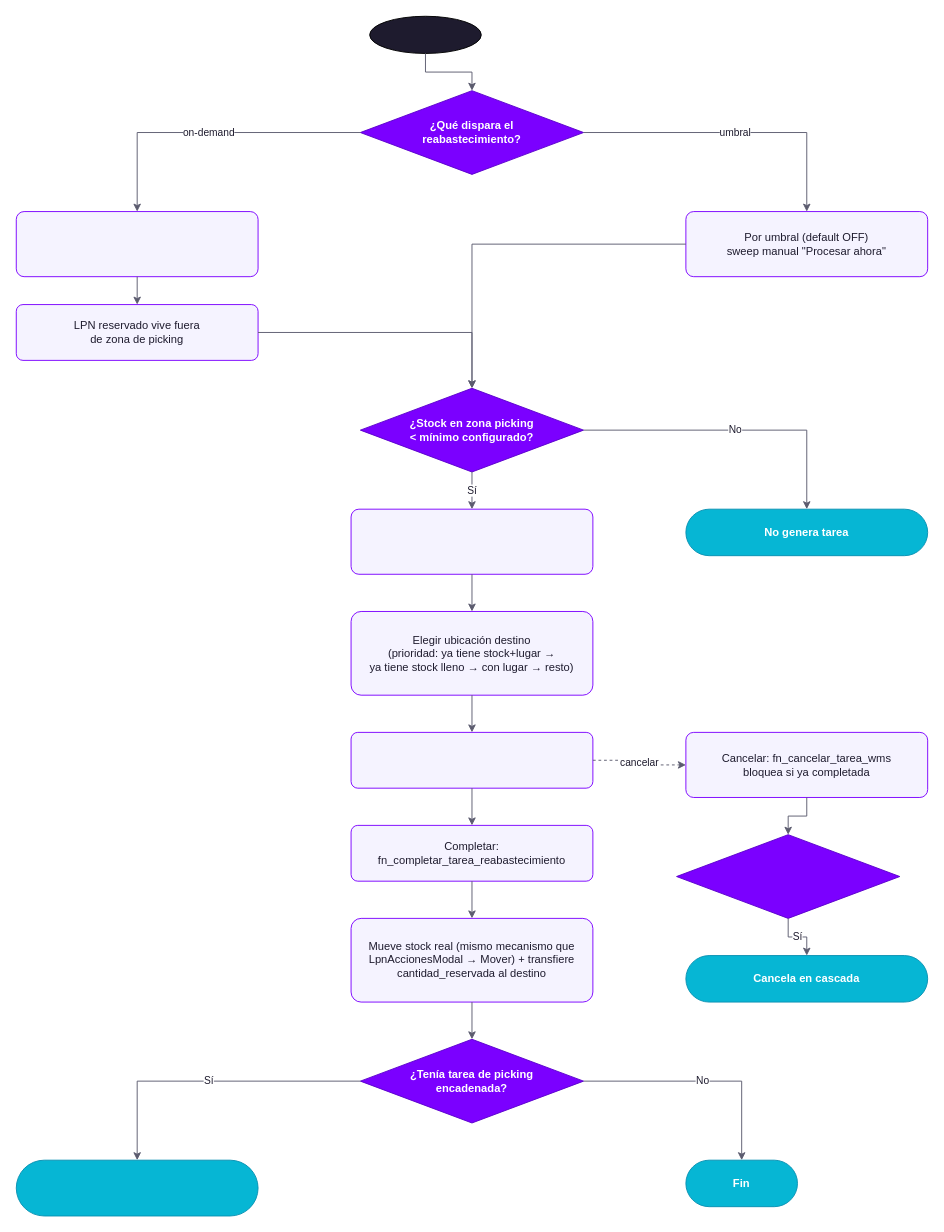
This 944x1232 diagram has some shape labels left out. The shapes that lost their labels are listed below. From the top down, each one's centre as x and y in pixels, then its label:
At point 425,34: "Inicio".
At point 136,244: "On-demand (default ON) encadenado a picking de un pedido".
At point 471,541: "Cantidad = máximo − actual (clampeada al disponible real del origen)".
At point 471,759: "wms_tareas tipo=replenishment estado=pendiente".
At point 788,876: "¿Picking dependiente pendiente?".
At point 136,1187: "Picking dependiente ahora puede completarse".
